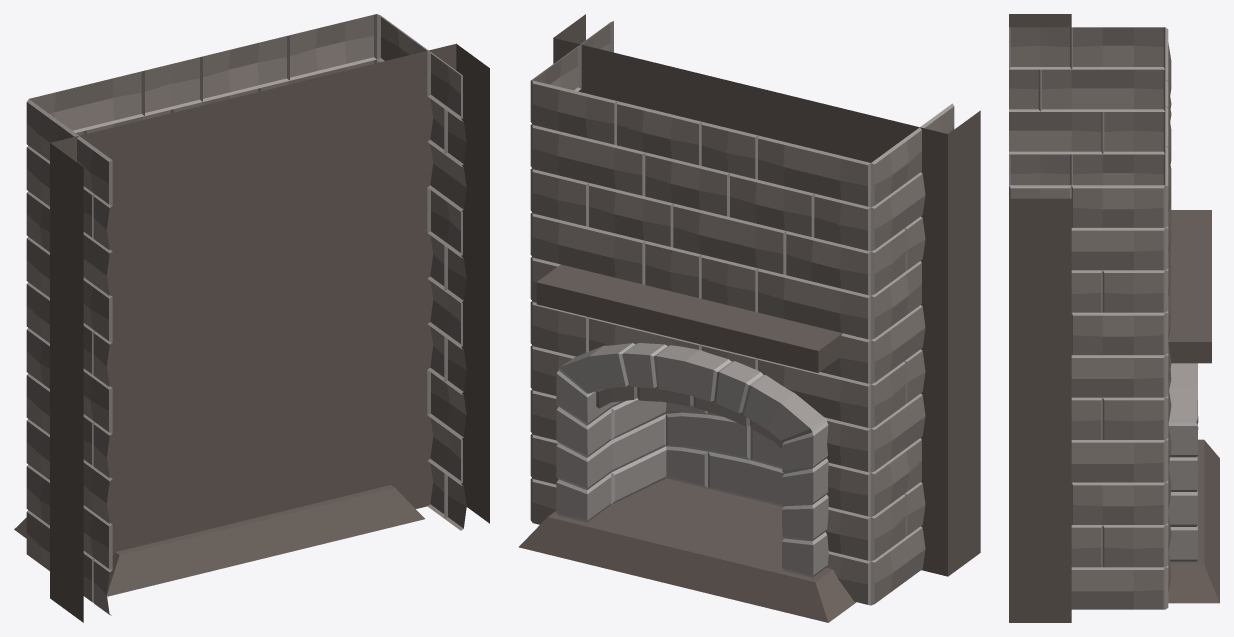
Rendered from Fireplace.fbx.
3 renders of one model, left to right at view 1: azimuth 30°, elevation 25°; view 2: azimuth 150°, elevation 25°; view 3: azimuth 270°, elevation 25°, orthographic. The views are drawn at different scales.
Visible parts, largest first — view 1: Fireplace; view 2: Fireplace; view 3: Fireplace.
Part boxes in pixels (x1,y1,x2,y2): Fireplace: [14, 14, 489, 622]; Fireplace: [519, 14, 980, 622]; Fireplace: [1009, 14, 1219, 622].
Bounding box in the file's own units: 2.8 × 1.35 × 3.
